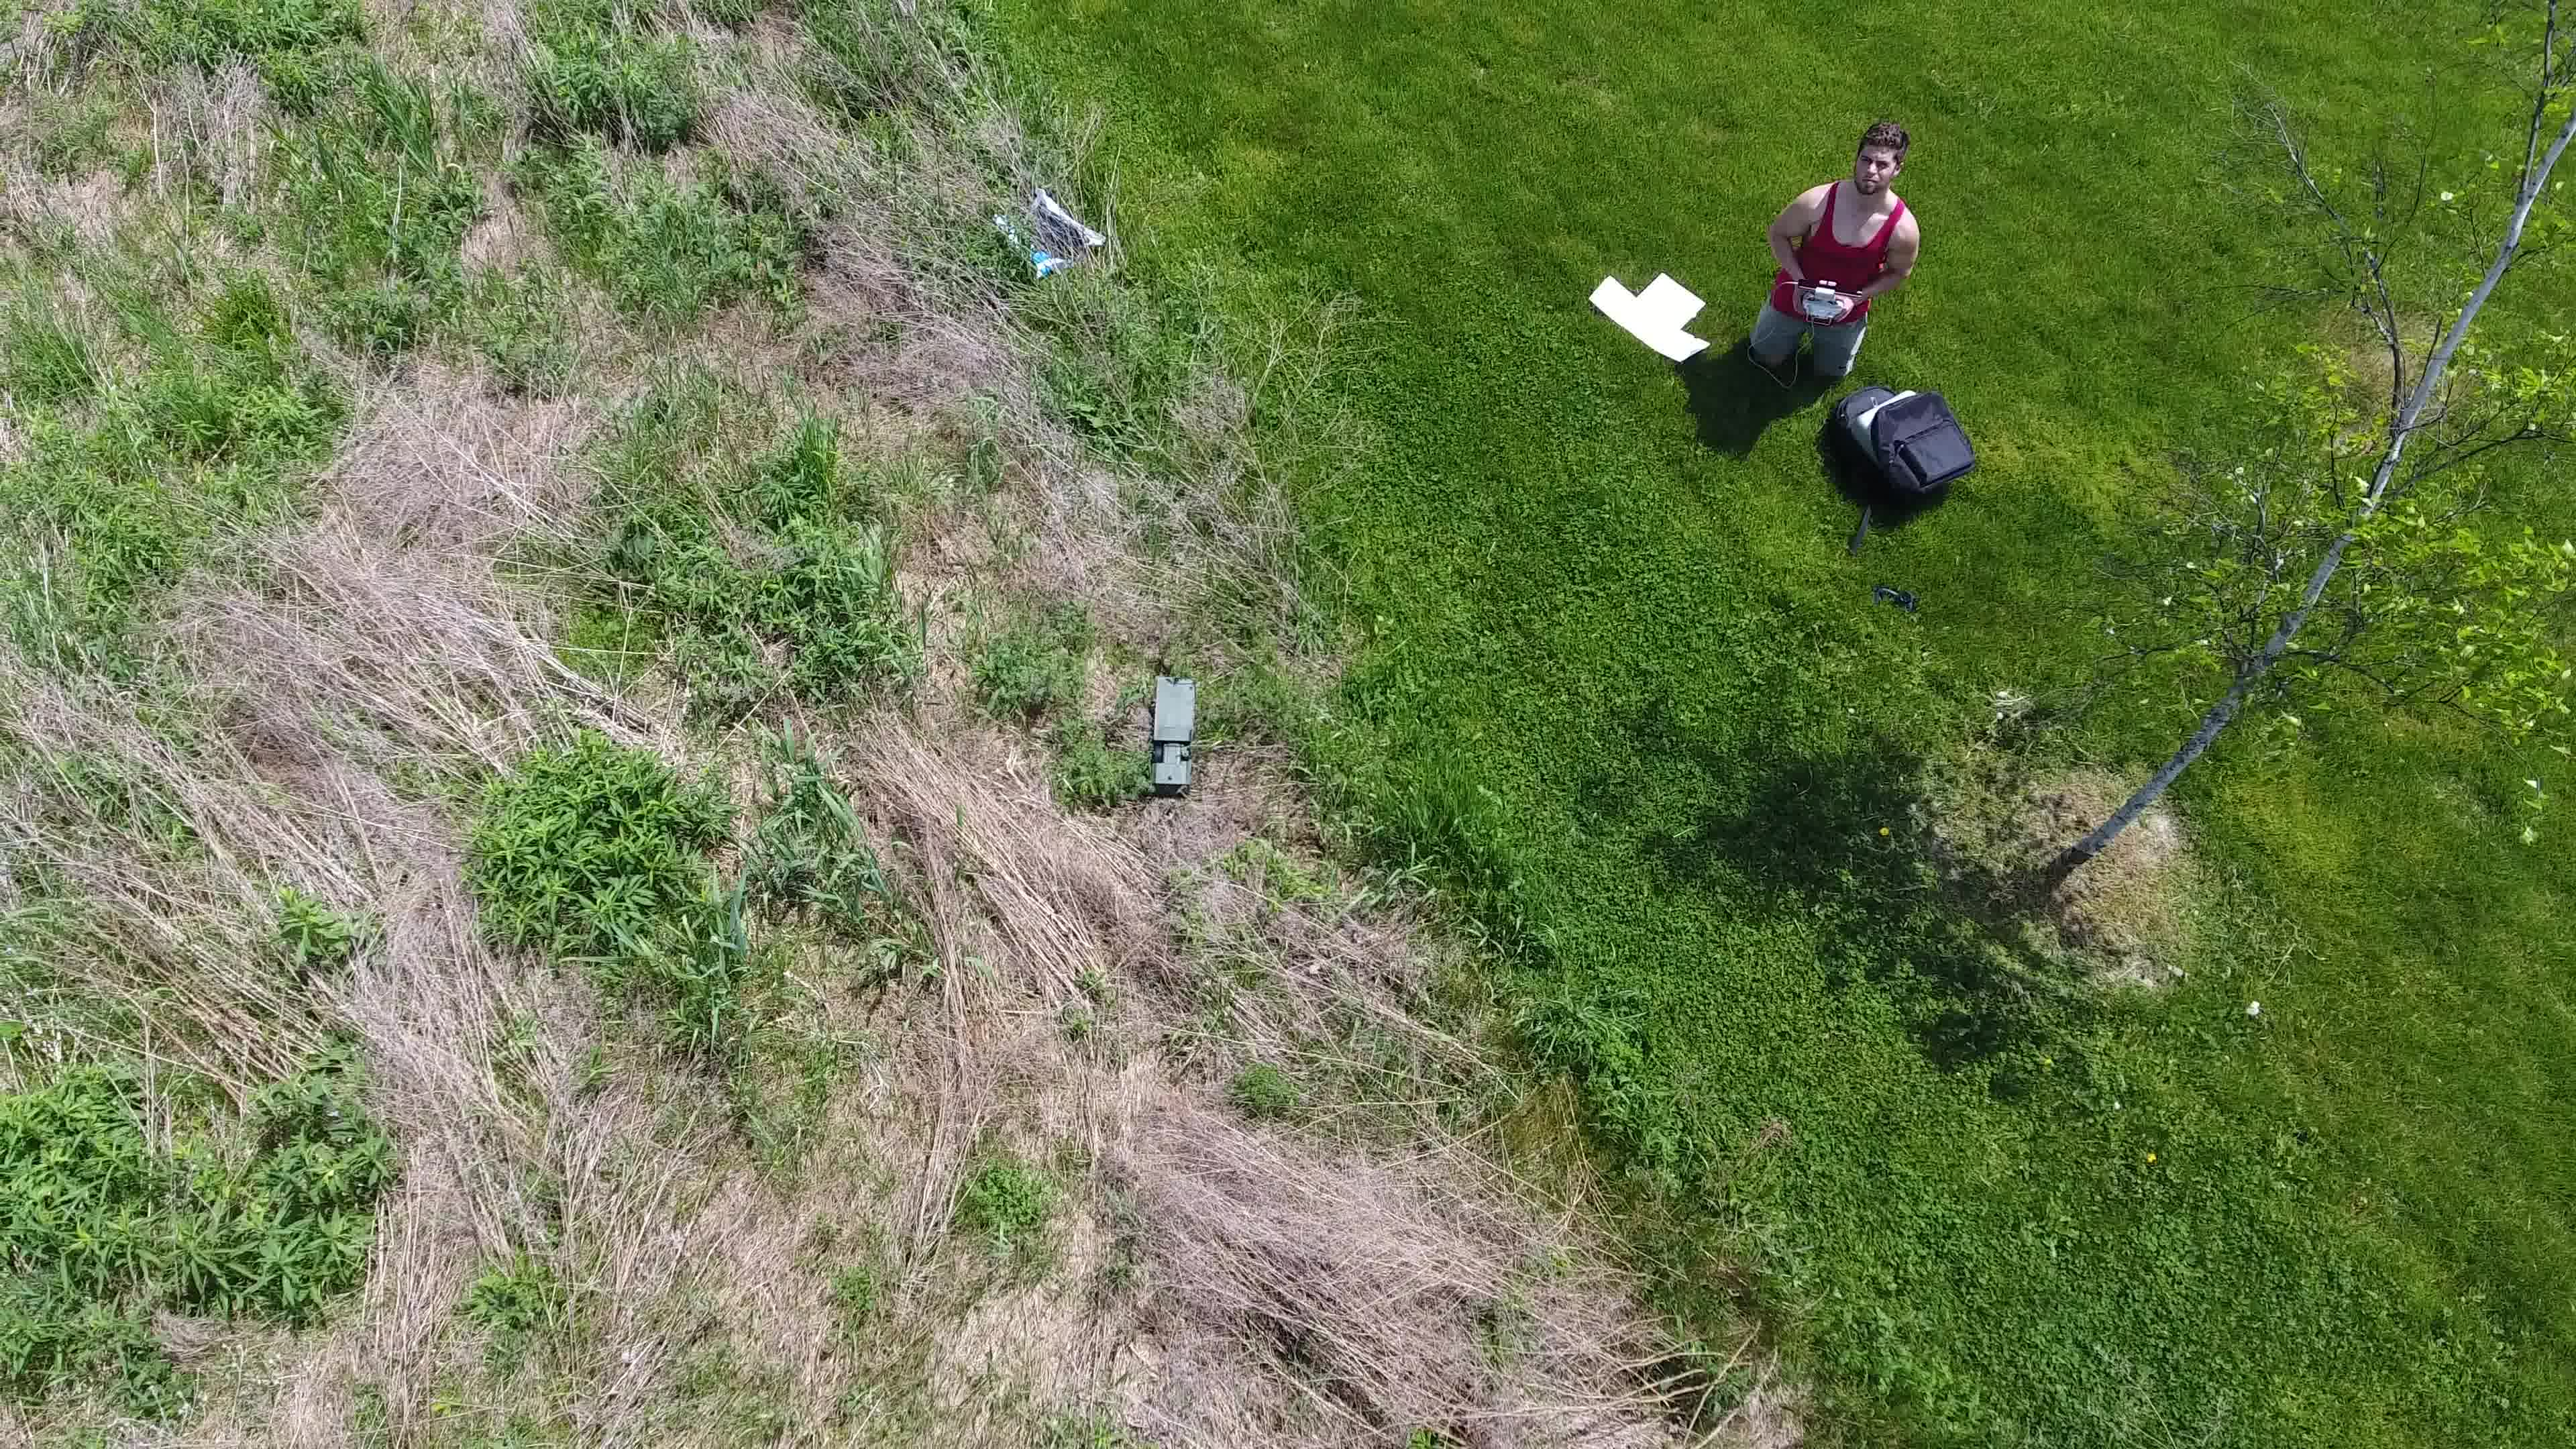transporter9: (1148, 674, 1201, 794)
